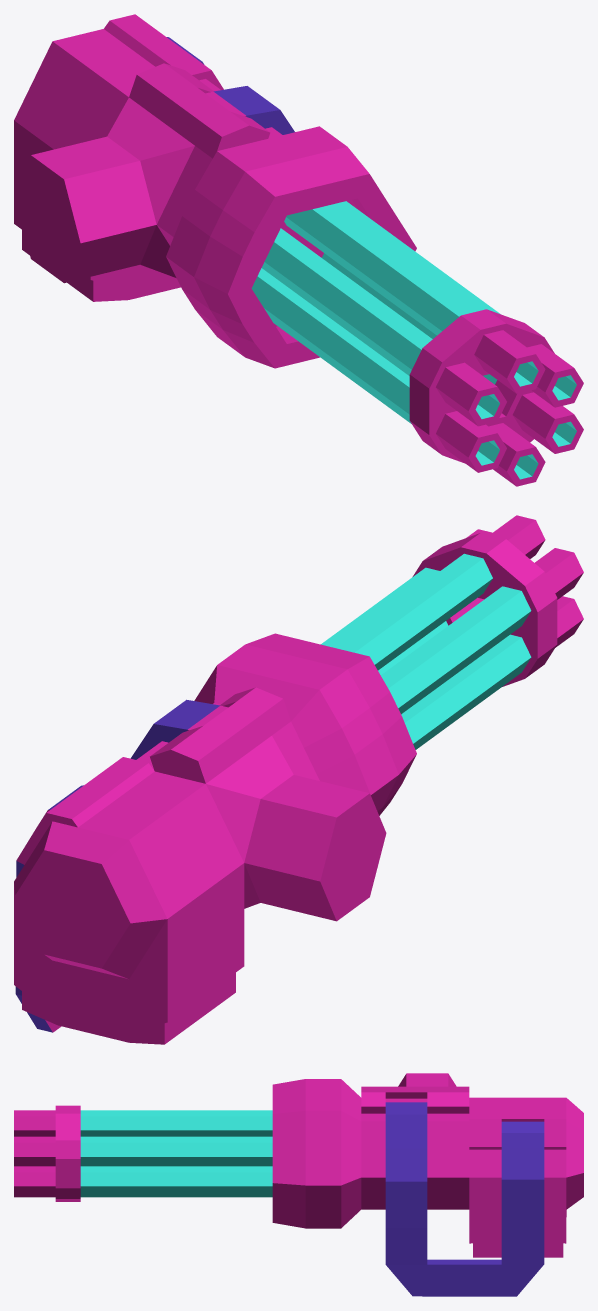
The model's file is MachineGun.fbx.
3 views of the same model, one above another, from view 1: azimuth 30°, elevation 25°; view 2: azimuth 150°, elevation 25°; view 3: azimuth 270°, elevation 25° (orthographic). The views are drawn at different scales.
Visible parts, largest first — view 1: MachineGun; view 2: MachineGun; view 3: MachineGun.
Boxes of the visible parts, x1,y1,x2,y2 form: MachineGun: (14, 14, 583, 486); MachineGun: (14, 515, 583, 1044); MachineGun: (14, 1073, 583, 1296).
Size of the model in its own units: 44.89 by 46.21 by 137.
